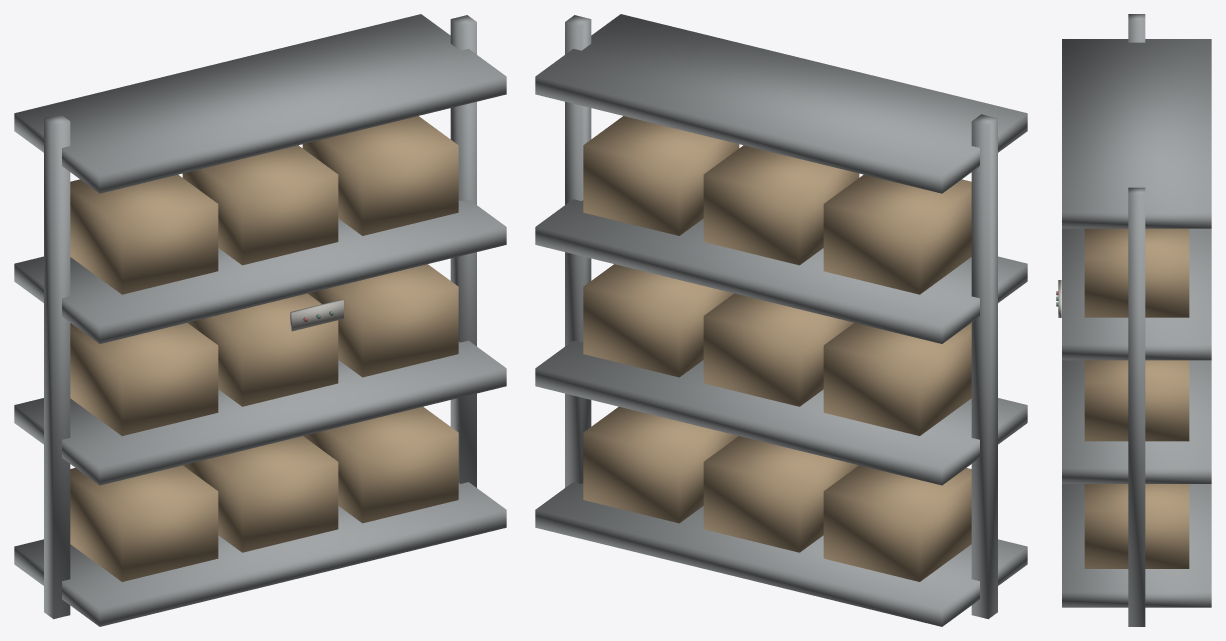
File: print_drying_rack__tall.glb
3 renders of one model, left to right at view 1: azimuth 30°, elevation 25°; view 2: azimuth 150°, elevation 25°; view 3: azimuth 270°, elevation 25°, orthographic. The views are drawn at different scales.
Parts seen in each view (by area): view 1: world; view 2: world; view 3: world.
Boxes of the visible parts, x1,y1,x2,y2 form: world: [14, 14, 506, 626]; world: [535, 14, 1027, 626]; world: [1056, 14, 1211, 626].
Size of the model in its own units: 2.29 by 2.55 by 0.831.
